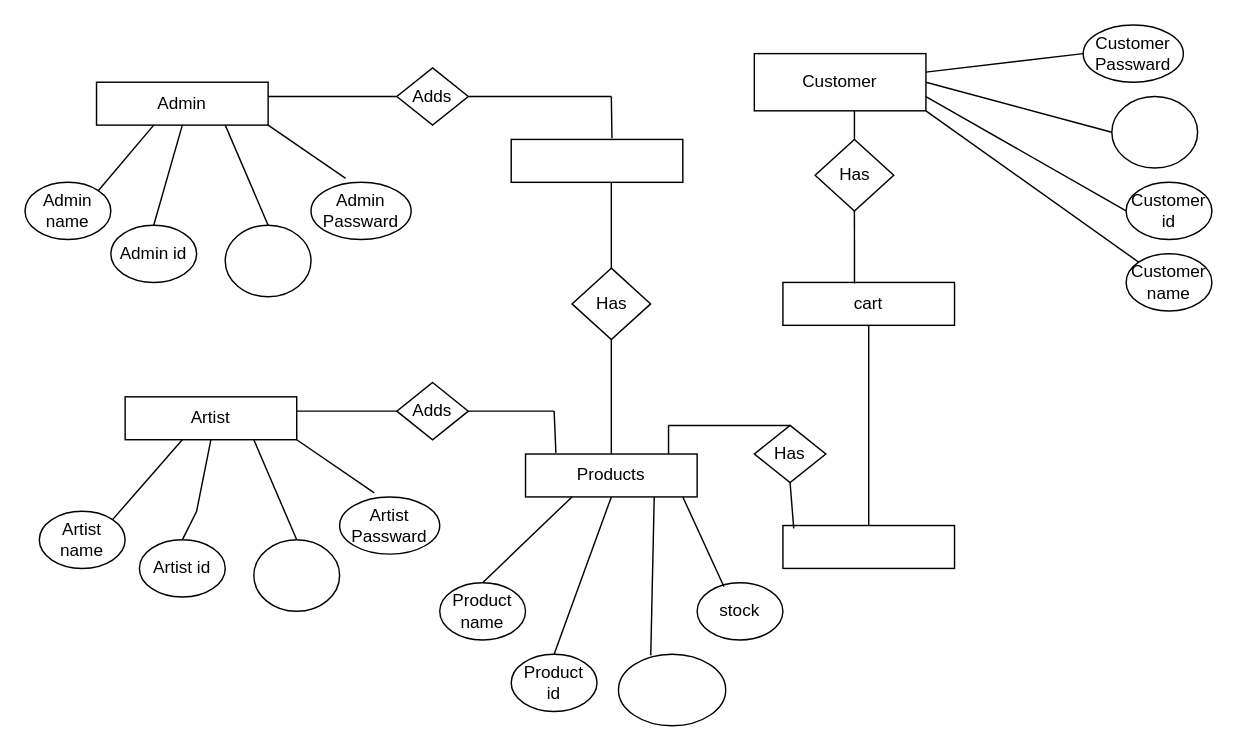
This 1237x751 diagram has some shape labels left out. Here are the shapes that lost their labels. From the top down, the centre of each, then its label:
At point (1154, 131): "Customer Email".
At point (596, 160): "Category".
At point (267, 260): "Admin Email".
At point (868, 546): "Billing".
At point (296, 574): "Artist Email".
At point (671, 689): "Produuct description".
